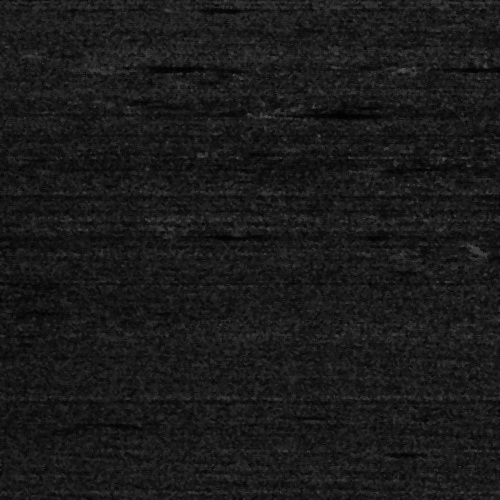object: (224, 107, 297, 118), (127, 61, 210, 68), (457, 239, 500, 248), (403, 63, 476, 68)
shadow: (261, 107, 358, 118), (168, 61, 274, 68), (439, 63, 500, 68)
